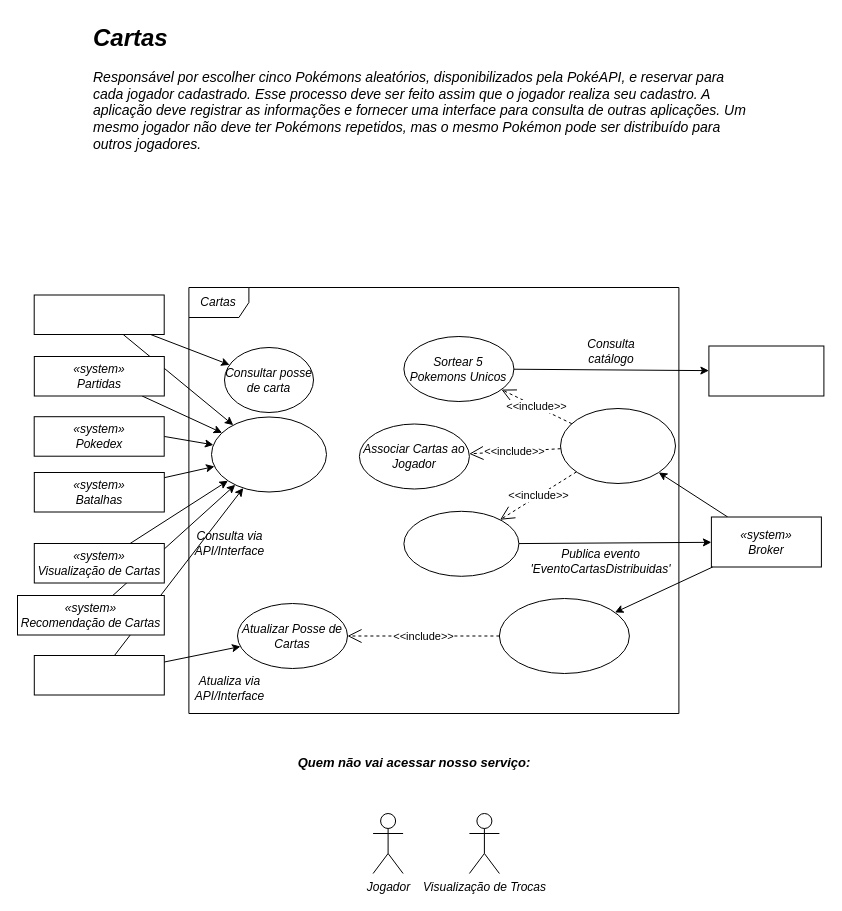
This 842x911 diagram has some shape labels left out. Each missing label, with the centre of its shape:
"Consultar as cartas do jogador" goes at point (268, 454).
"Processar evento de Novo Jogador" goes at point (618, 446).
"Processar Evento de Troca Concluída" goes at point (563, 636).
"Publicar Evento de Cartas Distribuidas" goes at point (461, 543).
"«external system» PokeAPI" goes at point (766, 370).
"«system» Administrador" goes at point (98, 674).
"«system» Trocas" goes at point (98, 314).
